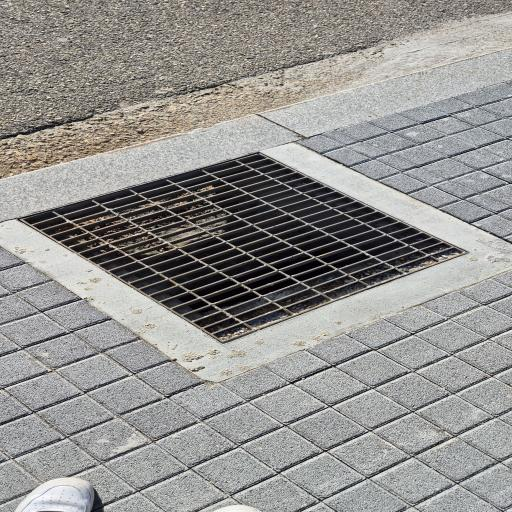drain: (24, 153, 464, 343)
